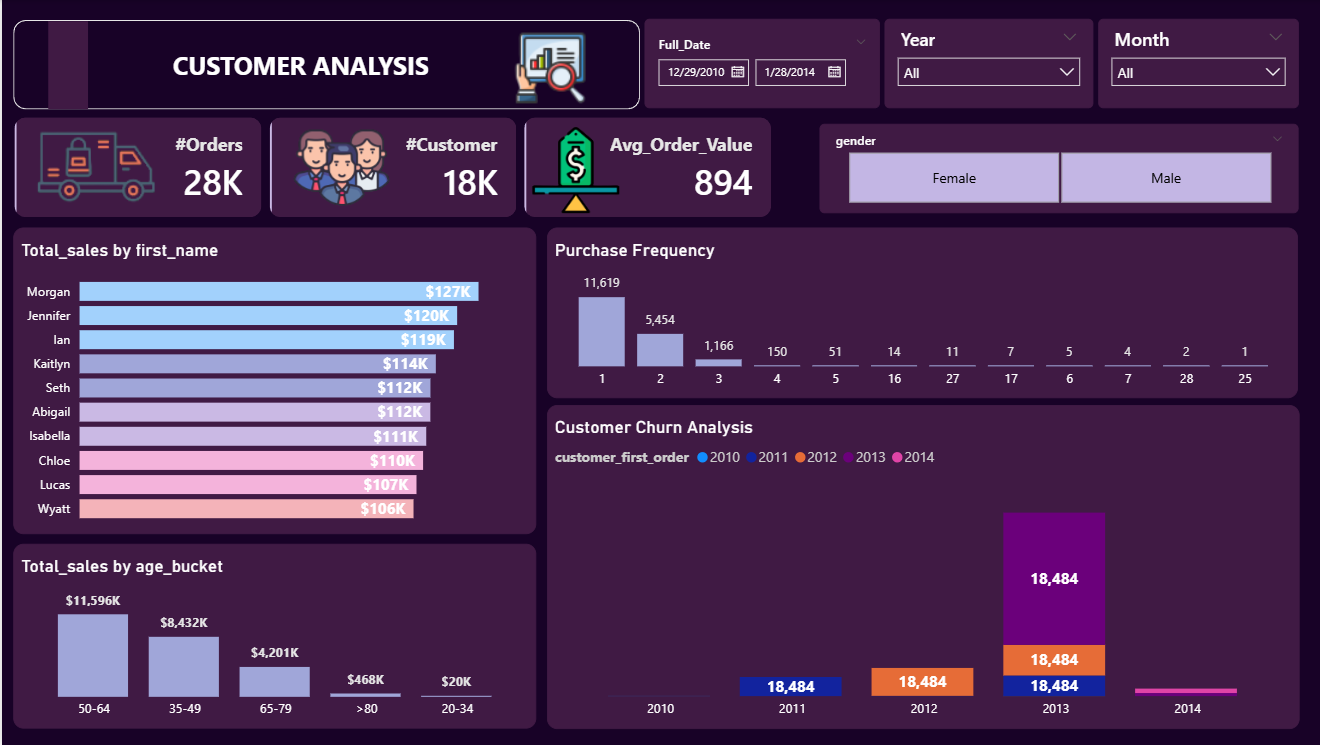

The dashboard page shown, as its layout file describes it:
{"tool":"powerbi","page":{"name":"CUSTOMER ANALYSIS","canvas":[1280,720],"ordinal":1},"visuals":[{"type":"cardVisual","fields":{"Data":["DAX_Measure.#Orders","DAX_Measure.#Customer","DAX_Measure.AOV"]},"box":[7.5,108.3,741.2,106.2],"z":0,"group":"g1"},{"type":"shape","box":[11.2,18.8,605,86.2],"z":0},{"type":"image","box":[26.7,116.1,130.9,92.8],"z":1000,"group":"g1"},{"type":"shape","box":[45,20,38.8,85],"z":1000},{"type":"image","box":[273.7,118.3,108.8,87.5],"z":2000,"group":"g1"},{"type":"slicer","fields":{"Values":["dim_date.Year"]},"box":[851.2,17.5,201.2,86.2],"z":2000},{"type":"image","box":[501.3,119.5,107.5,88.8],"z":3000,"group":"g1"},{"type":"slicer","fields":{"Values":["dim_date.Month"]},"box":[1057.5,17.5,193.8,86.2],"z":3000},{"type":"group","id":"g1","title":"Group 1","box":[7.5,108.3,741.2,106.2],"z":4000},{"type":"image","box":[458.8,2.5,133.8,117.5],"z":5000},{"type":"slicer","fields":{"Values":["dim_date.Full_Date"]},"box":[620,17.5,227.5,86.2],"z":6000},{"type":"clusteredBarChart","fields":{"Y":["DAX_Measure.Total_sales"],"Category":["dim_customers.first_name"]},"box":[11.2,220,505,296.2],"z":7000},{"type":"columnChart","title":"Purchase Frequency","fields":{"Y":["CountNonNull(dim_customers.customer_id)"],"Category":["dim_customers.Orders_Per_Customer"]},"box":[526.2,220,725,165],"z":8000},{"type":"lineStackedColumnComboChart","title":"Customer Churn Analysis","fields":{"Category":["dim_date.Year"],"Y":["CountNonNull(sales _dt.Customer_id)"],"Series":["sales _dt.customer_first_order"]},"box":[526.2,391.2,726.2,312.5],"z":9000},{"type":"columnChart","title":"Total_sales by age_bucket","fields":{"Y":["DAX_Measure.Total_sales"],"Category":["dim_customers.Age_Group"]},"box":[11.2,525,505,178.8],"z":10000},{"type":"slicer","fields":{"Values":["dim_customers.gender"]},"box":[788.8,120,462.5,86.2],"z":11000}]}

Visuals, with their boxes in screenshot pixels (x1, y1, x2, y2), scaled from the page's 1280x720 canvas onto the 1320x745 screenshot:
cardVisual - DAX_Measure.#Orders x DAX_Measure.#Customer: [8,112,772,222]
shape: [12,19,635,109]
image: [28,120,163,216]
shape: [46,21,86,109]
image: [282,122,394,213]
slicer - dim_date.Year: [878,18,1085,107]
image: [517,124,628,216]
slicer - dim_date.Month: [1091,18,1290,107]
"Group 1" group: [8,112,772,222]
image: [473,3,611,124]
slicer - dim_date.Full_Date: [639,18,874,107]
clusteredBarChart - DAX_Measure.Total_sales x dim_customers.first_name: [12,228,532,534]
"Purchase Frequency" columnChart: [543,228,1290,398]
"Customer Churn Analysis" lineStackedColumnComboChart: [543,405,1292,728]
"Total_sales by age_bucket" columnChart: [12,543,532,728]
slicer - dim_customers.gender: [813,124,1290,213]
